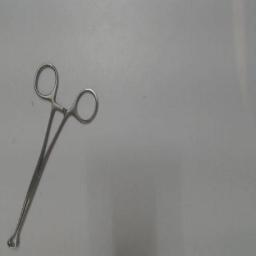Babcock Tissue Forceps: (4, 58, 102, 252)
